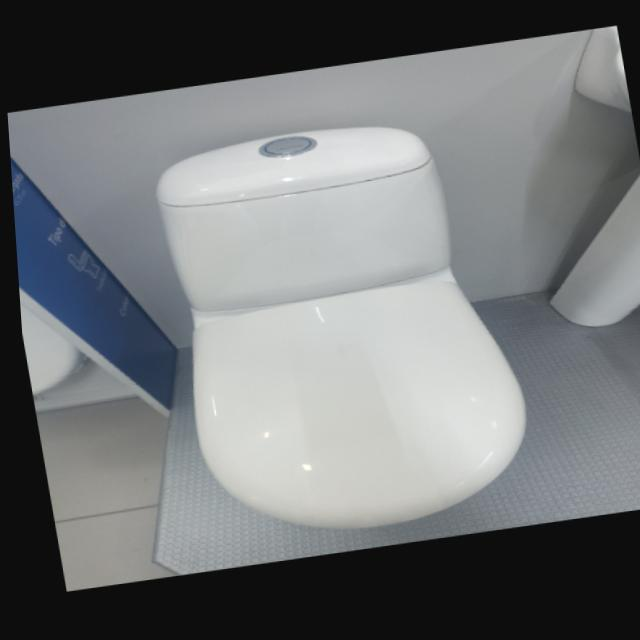toilet: (141, 108, 538, 552)
